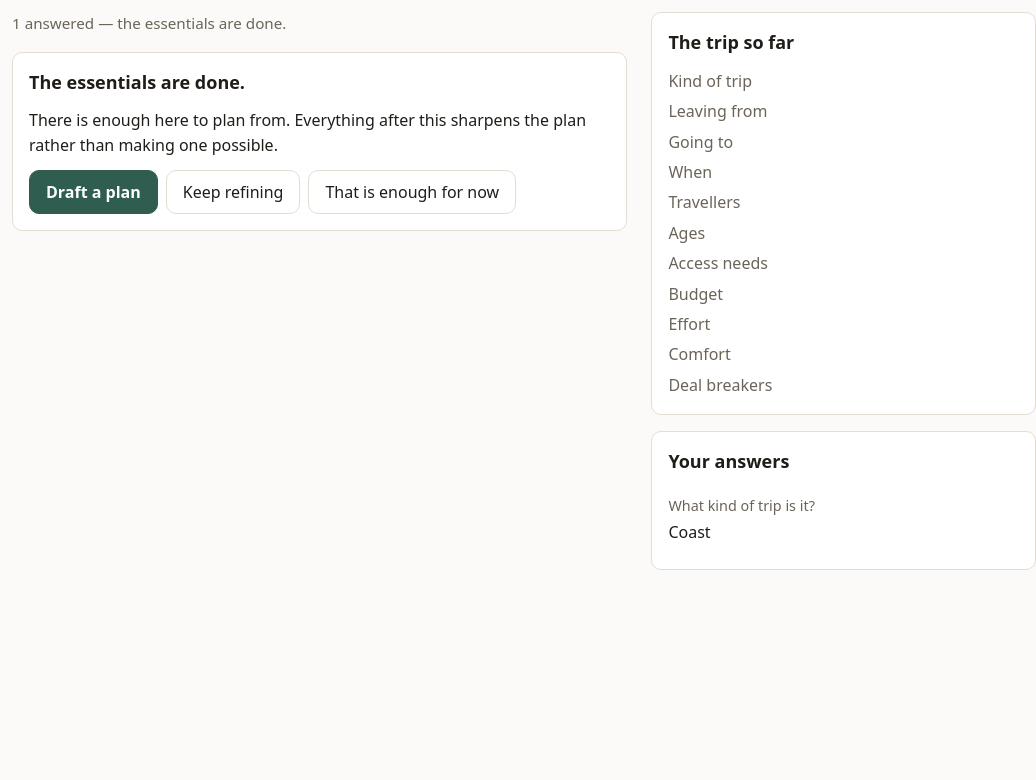
Test: core-complete with more to ask is a checkpoint, and both ways on are offered
This screenshot has width=1036, height=780.
Check: the heading "The essentials are done." is shown, box [29,70,245,94]
Check: the heading "How rough a night would you accept?" is not shown
Click the button "Keep refining": [233, 192] box [166,170,300,214]
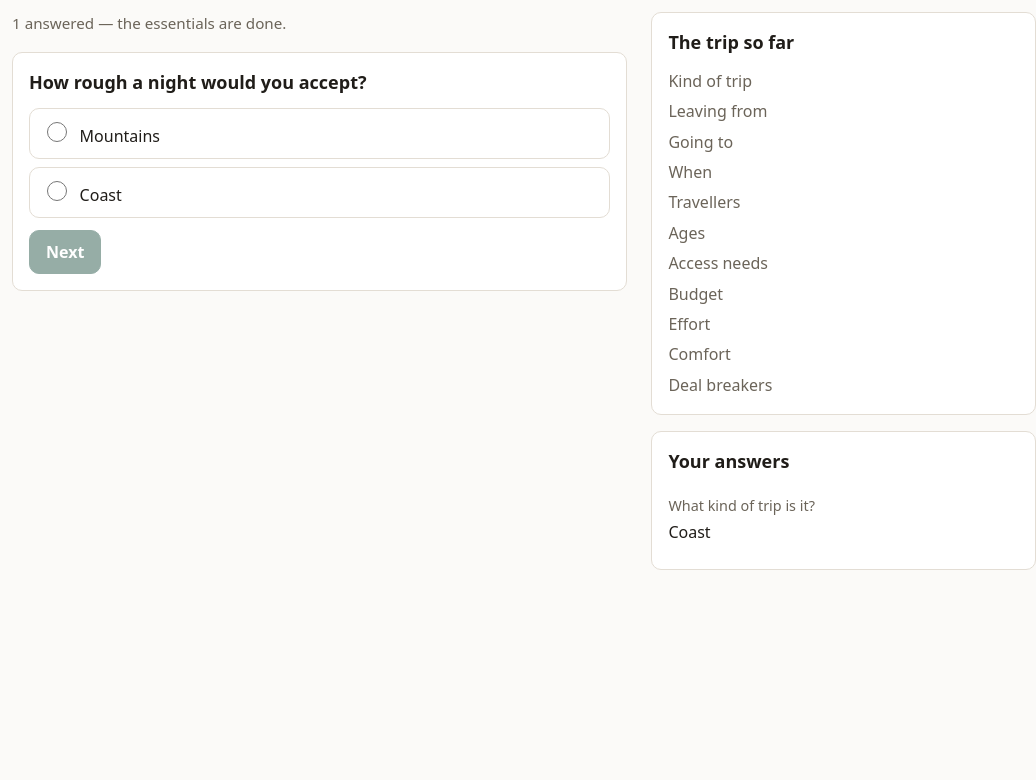
Check: the heading "How rough a night would you accept?" is shown, box [29,70,366,94]
